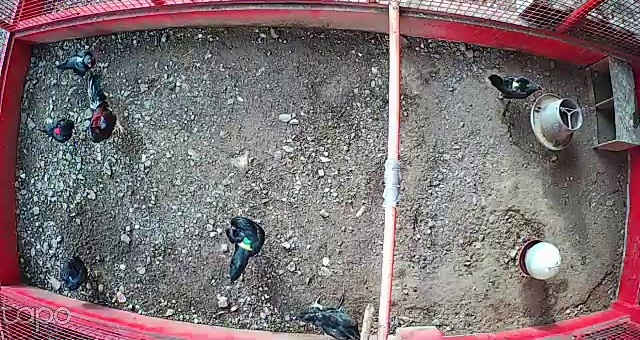Chicken: (289, 286, 361, 340), (223, 213, 271, 281), (481, 66, 545, 105), (39, 115, 85, 142)
Saddle_Color_Red: (54, 128, 60, 133)
Saddle_Color_Yellow: (513, 78, 520, 91)
Saddle_Color_YellowGreen: (236, 236, 252, 251)
